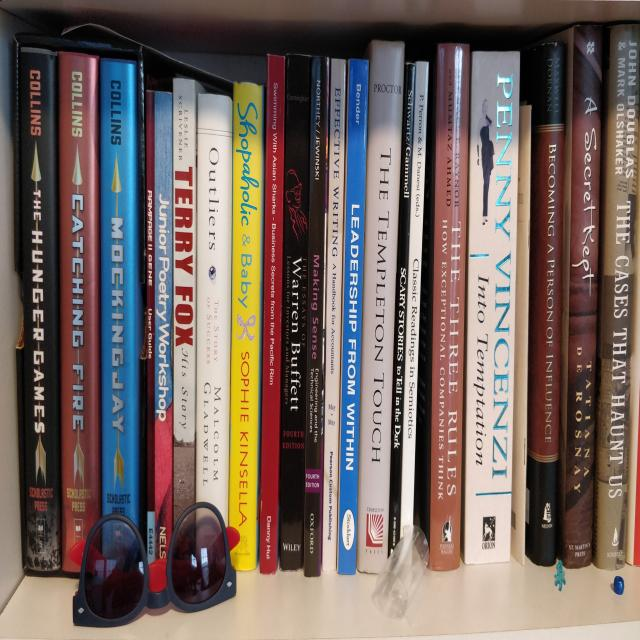book: (461, 44, 522, 592), (556, 7, 608, 592), (592, 0, 640, 580), (359, 22, 406, 600), (429, 28, 473, 586), (58, 41, 102, 580), (527, 34, 569, 586), (100, 43, 142, 584), (17, 40, 58, 578), (191, 84, 234, 586), (382, 53, 419, 583), (278, 38, 314, 578), (398, 55, 433, 589), (230, 73, 266, 582), (256, 47, 287, 582), (339, 50, 369, 579), (303, 43, 330, 590), (171, 75, 196, 591), (322, 49, 345, 584), (154, 89, 174, 585), (145, 88, 156, 596)
